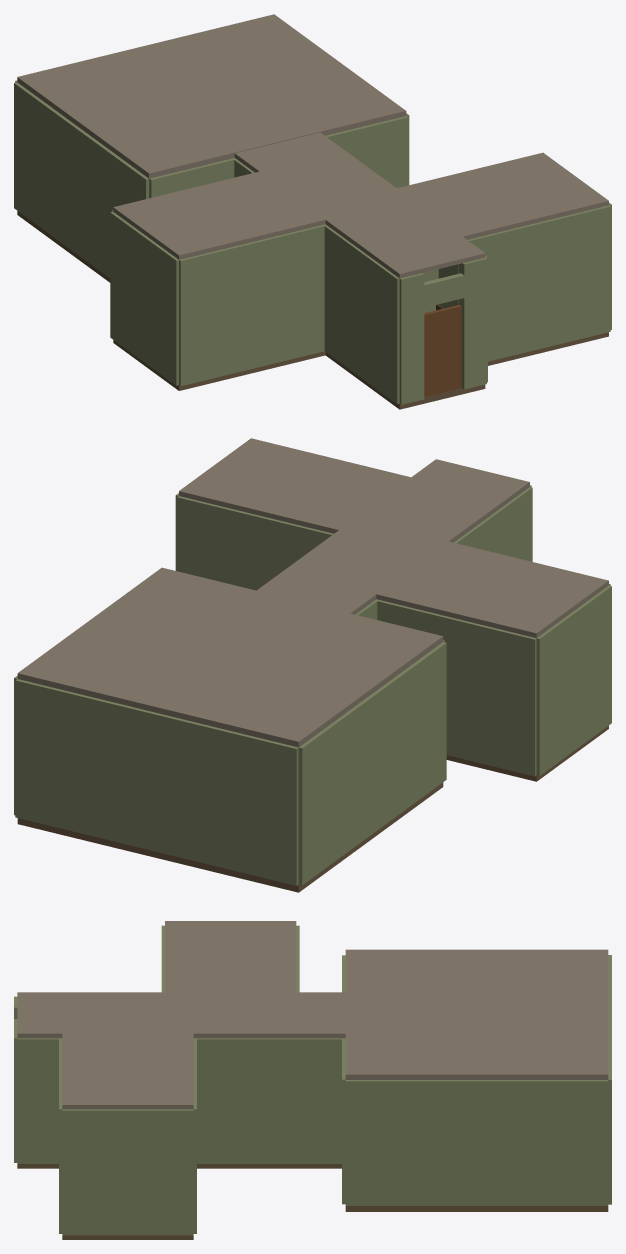
Rendered from escape_room.glb.
The picture shows the model from 3 angles, top to bottom: view 1: azimuth 30°, elevation 25°; view 2: azimuth 150°, elevation 25°; view 3: azimuth 270°, elevation 25°; orthographic projection. The views are drawn at different scales.
Parts seen in each view (by area): view 1: VR_Ceiling, Doll_Room_Back_Wall, Archive_Room_Back_Wall, Corridor_Ceiling, Wall_Left, Doll_Room_Ceiling, Archive_Room_Ceiling, Corridor_Left_B, Doll_Room_Outer_Wall, Front_Wall_R, Final_Wall_L, Final_Wall_R (+6 smaller); view 2: VR_Ceiling, Wall_Back, Wall_Left, Corridor_Ceiling, Doll_Room_Front_Wall, Doll_Room_Ceiling, Archive_Room_Ceiling, Doll_Room_Outer_Wall, Archive_Room_Front_Wall, Corridor_Left_B, Floor, Doll_Room_Floor; view 3: VR_Ceiling, Wall_Right, Corridor_Right_A, Archive_Room_Outer_Wall, Corridor_Ceiling, Archive_Room_Ceiling, Doll_Room_Ceiling, Corridor_Right_B, Floor, Wall_Back, Corridor_Floor, Archive_Room_Back_Wall (+4 smaller).
Part boxes in pixels (x1,y1,x2,y2): VR_Ceiling: [17, 14, 406, 178]; Doll_Room_Back_Wall: [179, 225, 326, 386]; Archive_Room_Back_Wall: [468, 205, 610, 361]; Corridor_Ceiling: [234, 132, 485, 278]; Wall_Left: [14, 82, 149, 278]; Doll_Room_Ceiling: [113, 171, 325, 259]; Archive_Room_Ceiling: [397, 152, 608, 239]; Corridor_Left_B: [323, 224, 399, 404]; Doll_Room_Outer_Wall: [110, 212, 178, 385]; Front_Wall_R: [325, 116, 407, 187]; Final_Wall_L: [399, 273, 424, 404]; Final_Wall_R: [461, 257, 486, 389]; VR_Ceiling: [17, 567, 443, 747]; Wall_Back: [15, 679, 298, 885]; Wall_Left: [298, 642, 446, 885]; Corridor_Ceiling: [257, 459, 529, 614]; Doll_Room_Front_Wall: [377, 600, 536, 776]; Doll_Room_Ceiling: [376, 541, 608, 638]; Archive_Room_Ceiling: [179, 438, 410, 533]; Doll_Room_Outer_Wall: [536, 585, 611, 775]; Archive_Room_Front_Wall: [177, 496, 333, 590]; Corridor_Left_B: [454, 487, 532, 561]; Floor: [17, 782, 443, 892]; Doll_Room_Floor: [446, 725, 608, 781]; VR_Ceiling: [345, 949, 608, 1079]; Wall_Right: [345, 1080, 608, 1205]; Corridor_Right_A: [197, 1038, 341, 1163]; Archive_Room_Outer_Wall: [62, 1109, 193, 1235]; Corridor_Ceiling: [17, 992, 345, 1038]; Archive_Room_Ceiling: [62, 1033, 193, 1109]; Doll_Room_Ceiling: [165, 921, 296, 992]; Corridor_Right_B: [17, 1038, 58, 1163]; Floor: [345, 1206, 608, 1211]; Wall_Back: [608, 955, 611, 1204]; Corridor_Floor: [17, 1164, 341, 1168]; Archive_Room_Back_Wall: [59, 1038, 62, 1233].
Size of the model in its own units: 10.76 by 3.69 by 14.57.
